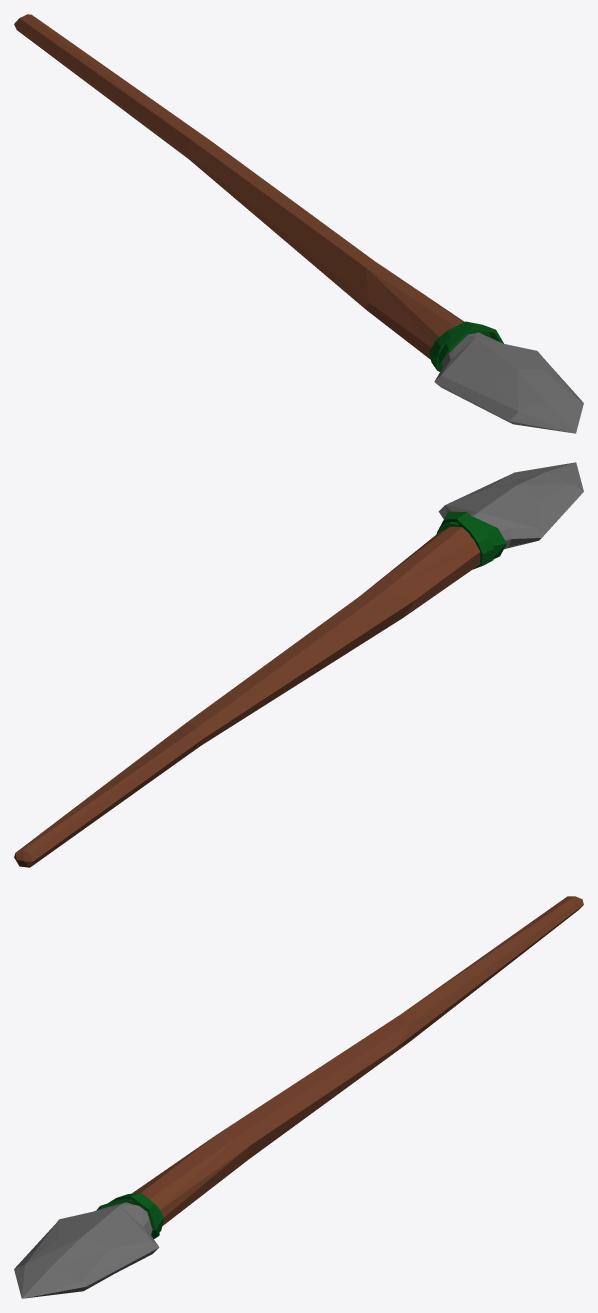
The model's file is Pike.fbx.
3 views of the same model, one above another, from view 1: azimuth 30°, elevation 25°; view 2: azimuth 150°, elevation 25°; view 3: azimuth 330°, elevation 25° (orthographic). The views are drawn at different scales.
Visible parts, largest first — view 1: Pike; view 2: Pike; view 3: Pike.
Boxes of the visible parts, box(x1,y1,x2,y2) form: Pike: box(14, 14, 583, 433); Pike: box(14, 462, 583, 867); Pike: box(14, 896, 583, 1298).
Bounding box in the file's own units: 38.63 × 17.67 × 354.
